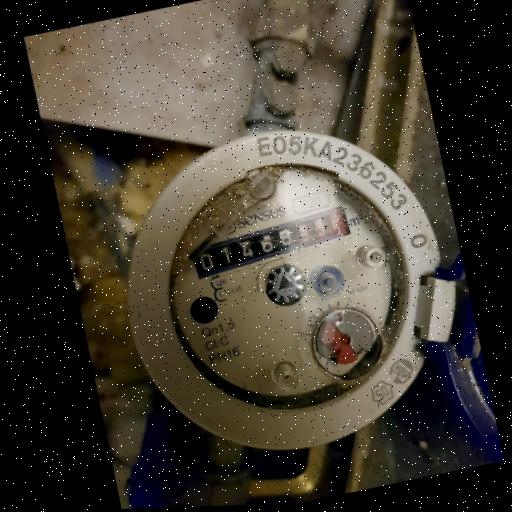0: (195, 247, 217, 273)
1: (216, 240, 240, 268)
3: (311, 215, 330, 239)
4: (235, 236, 257, 262)
5: (324, 205, 348, 239)
6: (255, 231, 278, 257)
8: (275, 224, 297, 250)
9: (294, 220, 314, 245)
border_water_meter_number: (186, 201, 363, 283)
